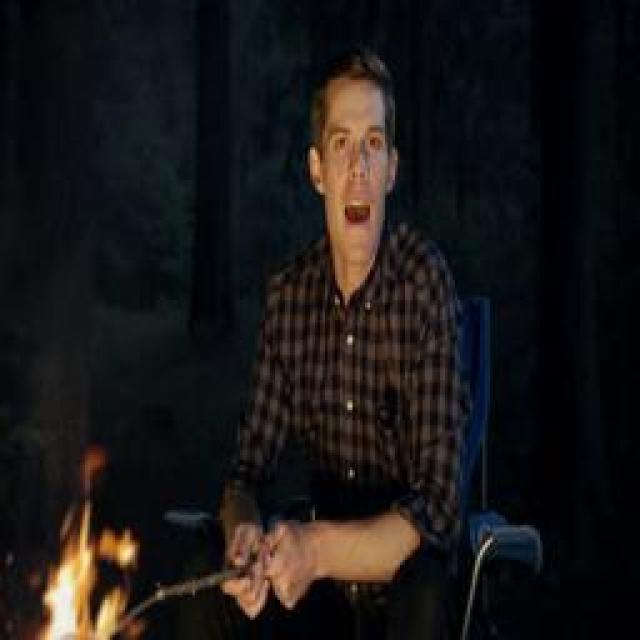Fire: (37, 455, 135, 640)
